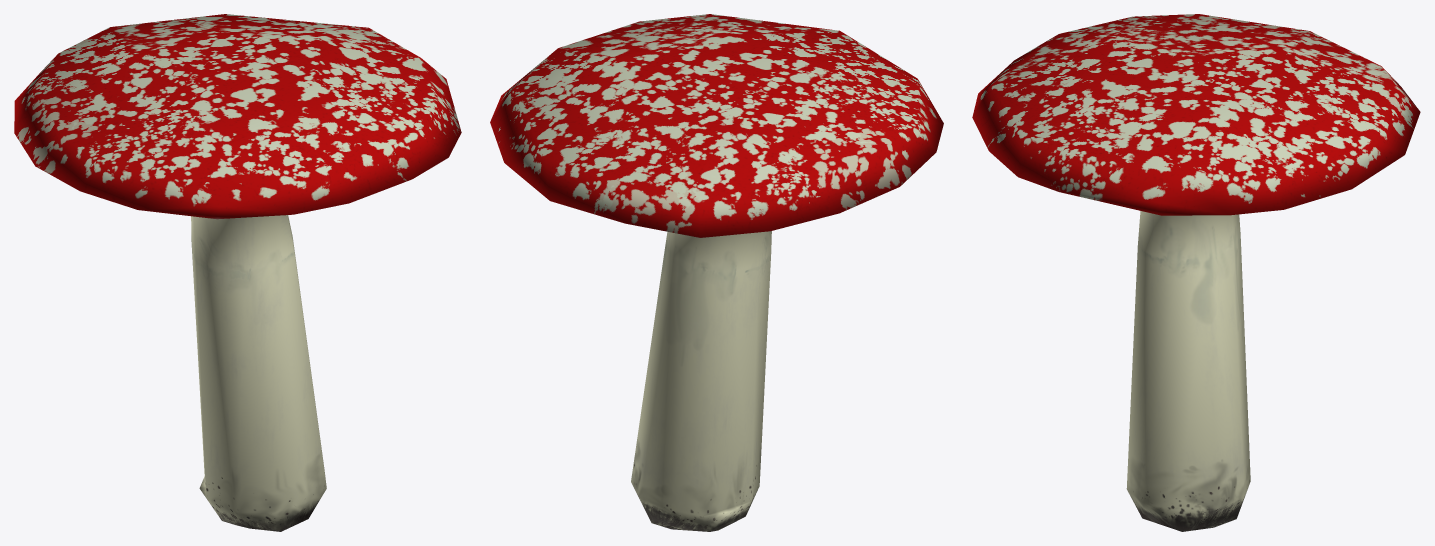
Rendered from Mushroom2.fbx.
3 views of the same model, side by side, from view 1: azimuth 30°, elevation 25°; view 2: azimuth 150°, elevation 25°; view 3: azimuth 270°, elevation 25° (orthographic). The views are drawn at different scales.
Parts seen in each view (by area): view 1: Mushroom2; view 2: Mushroom2; view 3: Mushroom2.
Boxes of the visible parts, <box> form: Mushroom2: <box>14,14,461,531</box>; Mushroom2: <box>490,14,943,531</box>; Mushroom2: <box>972,14,1420,531</box>.
Bounding box in the file's own units: 0.8958 × 1.01 × 0.9195.
1 material, 1 textured.
